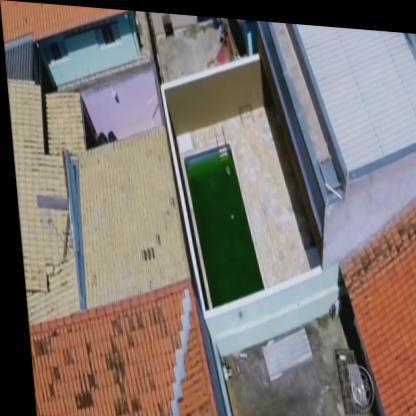agua: (193, 147, 240, 297)
